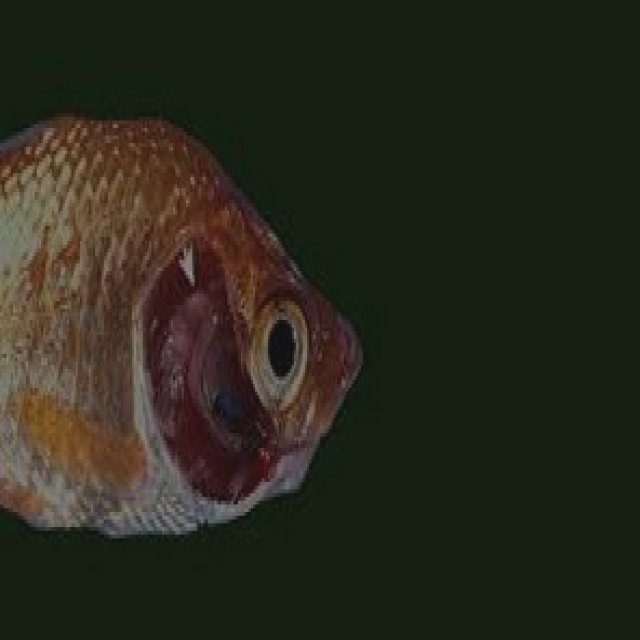Gill Disease: (2, 113, 370, 534)
